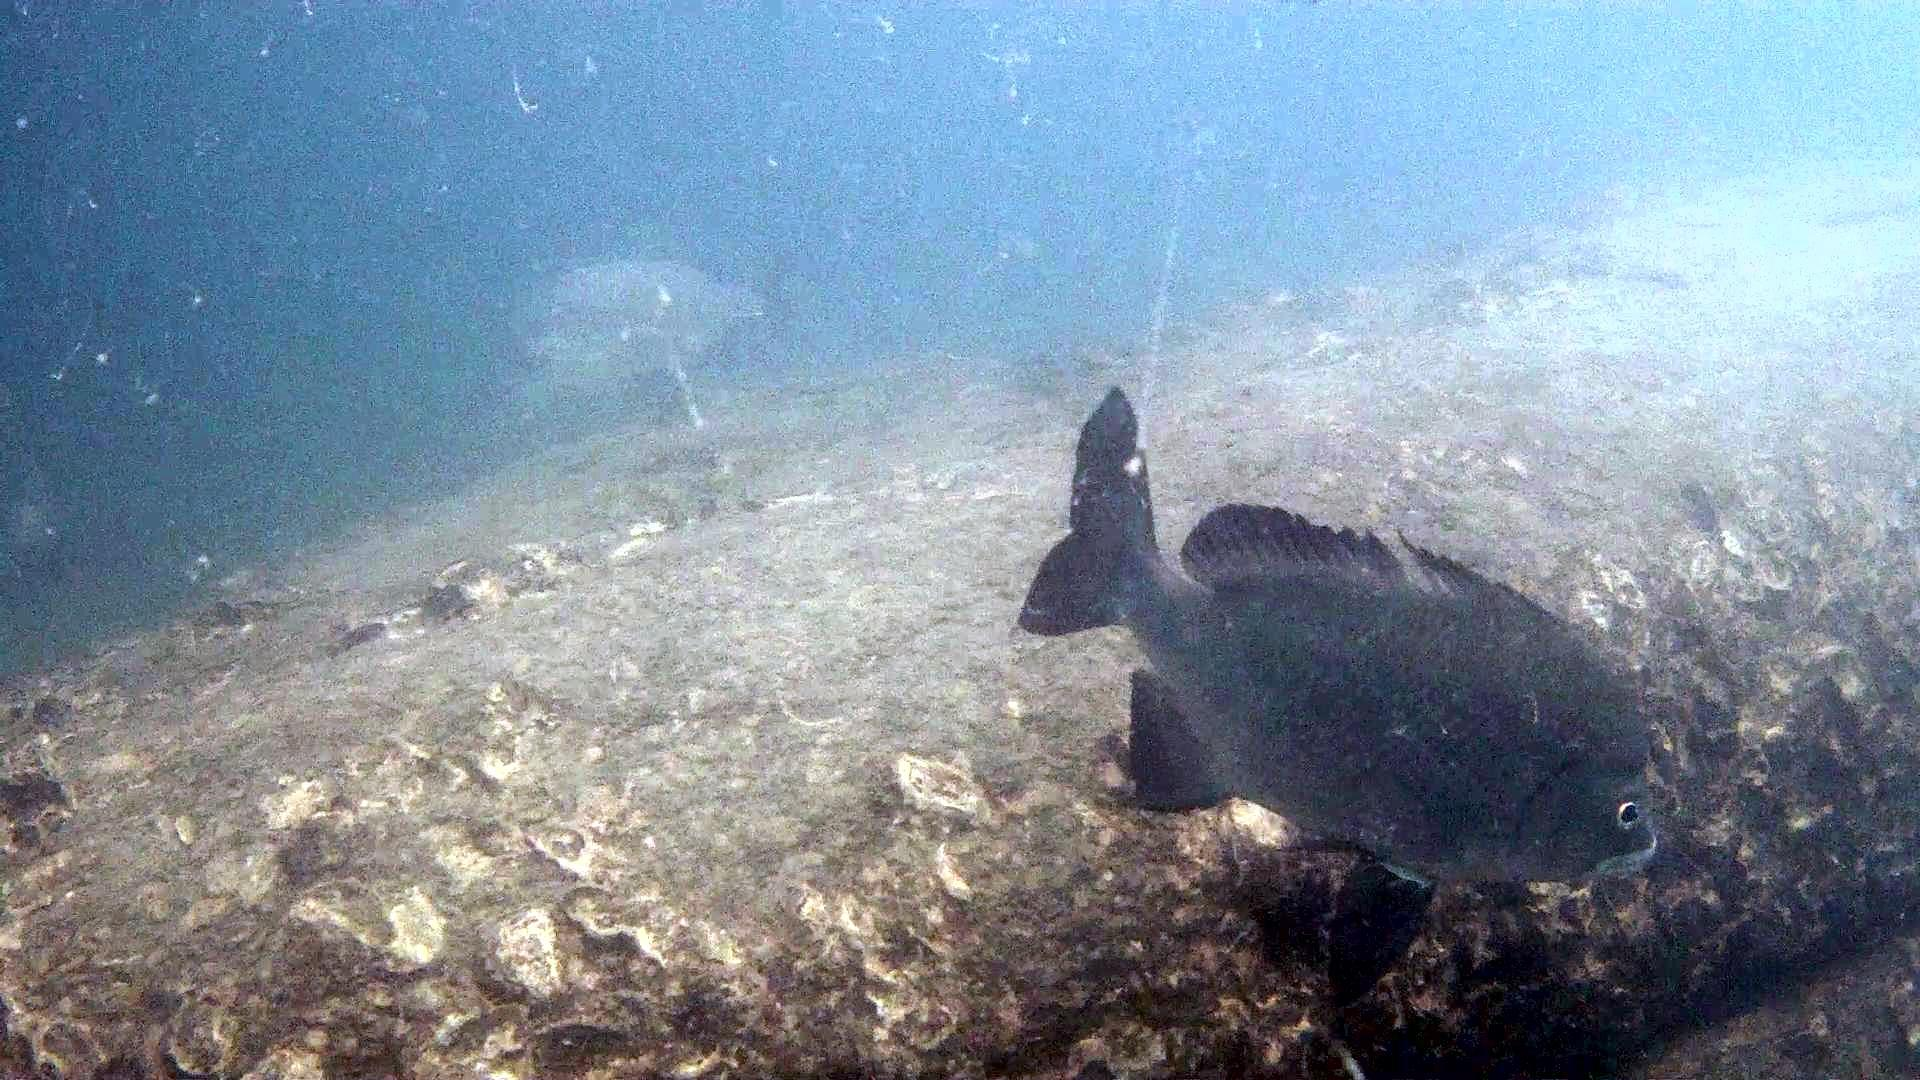acanthopagrus palmaris: (1005, 360, 1675, 1007)
